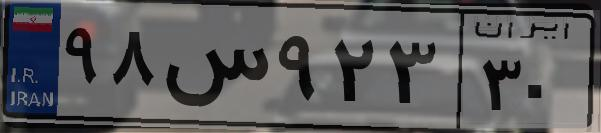0: (525, 38, 570, 115)
2: (330, 28, 385, 110)
3: (385, 28, 445, 110), (475, 38, 525, 113)
8: (110, 28, 158, 98)
9: (270, 28, 330, 110), (57, 26, 110, 100)
س: (158, 20, 270, 120)
